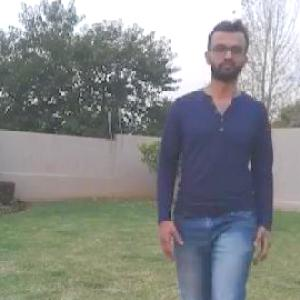follow: (163, 35, 259, 299)
